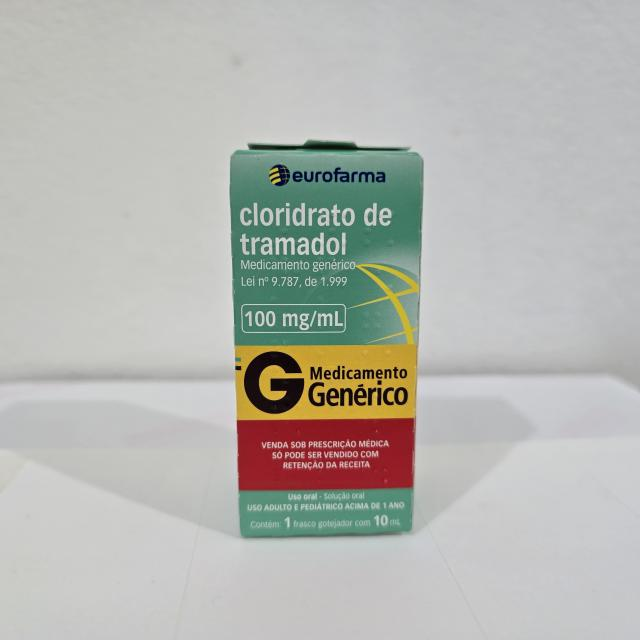tramadol: (226, 135, 427, 542)
